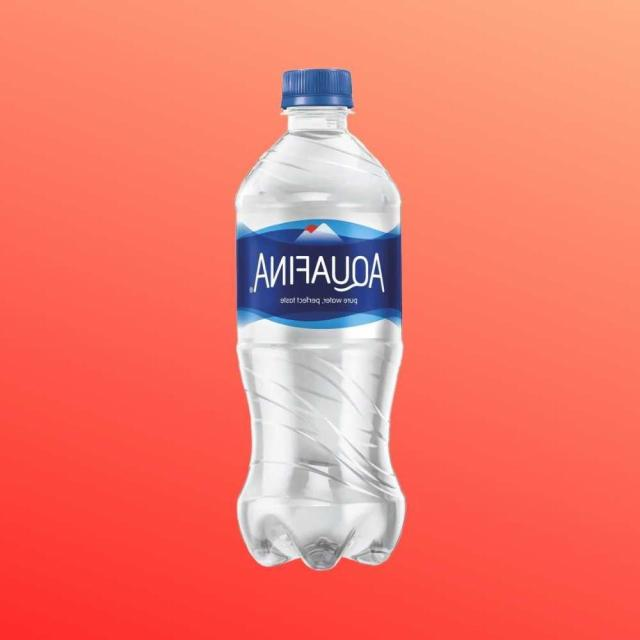bottle: (213, 44, 409, 600)
